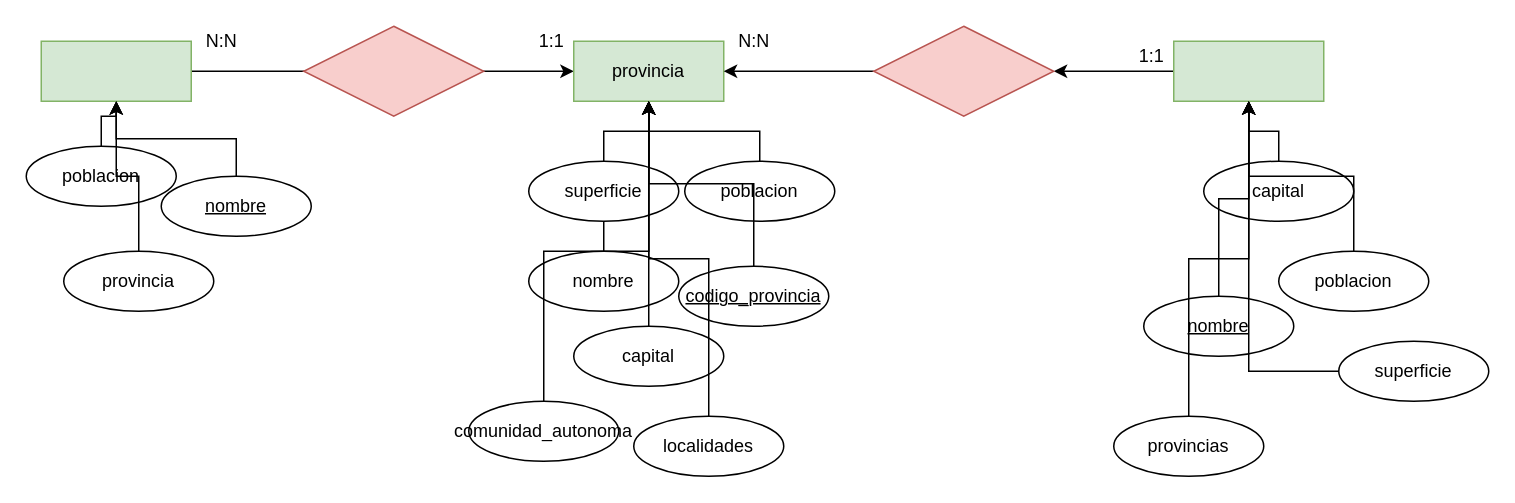
This 1515x503 diagram has some shape labels left out. Each missing label, with the box of its shape:
comunidad autonoma: (1172, 40, 1324, 101)
localidad: (40, 40, 191, 101)
Relationship: (872, 25, 1054, 116)
tienen: (302, 25, 484, 116)
